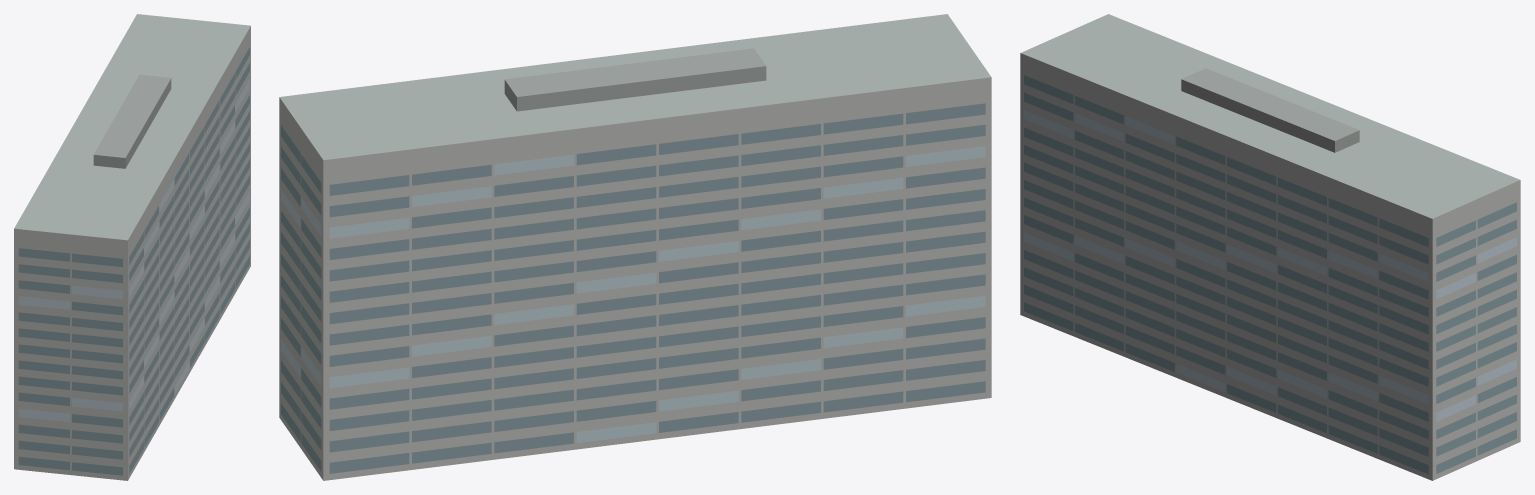
File: apt-a13510104.glb
3 views of the same model, side by side, from view 1: azimuth 30°, elevation 25°; view 2: azimuth 150°, elevation 25°; view 3: azimuth 270°, elevation 25° (orthographic). The views are drawn at different scales.
Parts seen in each view (by area): view 1: apt-a13510104; view 2: apt-a13510104; view 3: apt-a13510104.
Part boxes in pixels (x1,y1,x2,y2): apt-a13510104: (14,14,250,480); apt-a13510104: (279,14,991,480); apt-a13510104: (1020,14,1520,480).
Bounding box in the file's own units: 76.74 × 47.81 × 79.13.
